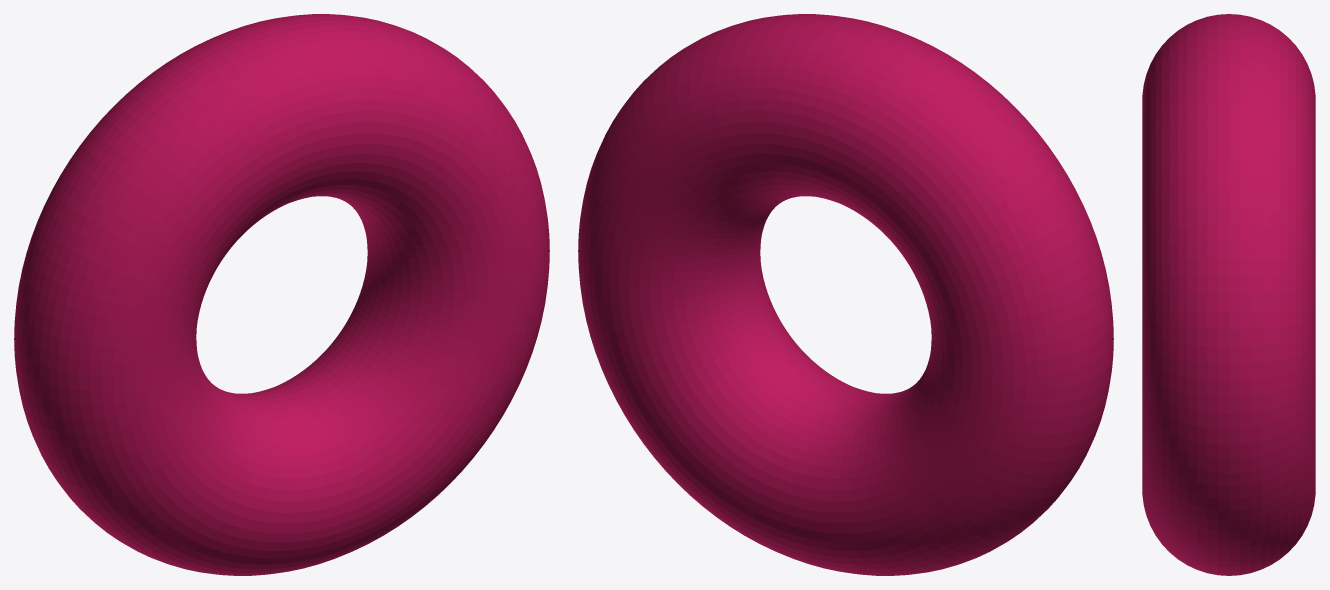
The picture shows the model from 3 angles, left to right: view 1: azimuth 30°, elevation 25°; view 2: azimuth 150°, elevation 25°; view 3: azimuth 270°, elevation 25°; orthographic projection. The views are drawn at different scales.
Parts seen in each view (by area): view 1: world; view 2: world; view 3: world.
Boxes of the visible parts, x1=… form: world: x1=14, y1=14, x2=549, y2=575; world: x1=578, y1=14, x2=1113, y2=575; world: x1=1142, y1=14, x2=1315, y2=575.
Bounding box in the file's own units: 28.93 × 28.93 × 8.92.
